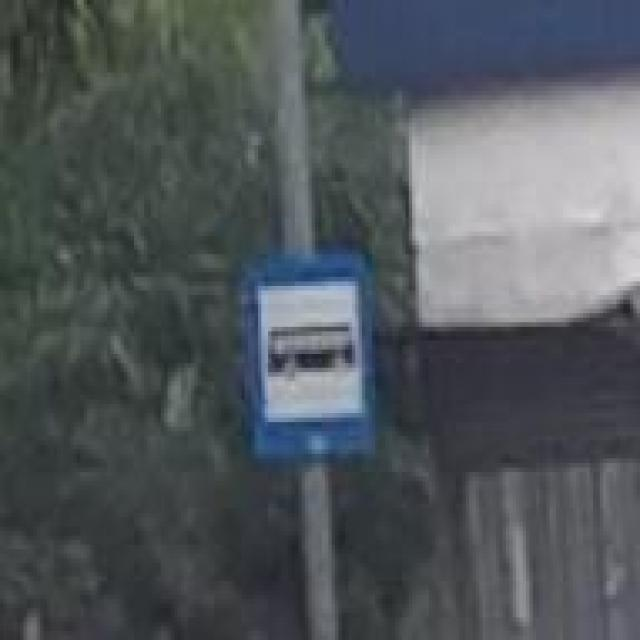traffic sign: (242, 250, 376, 459)
